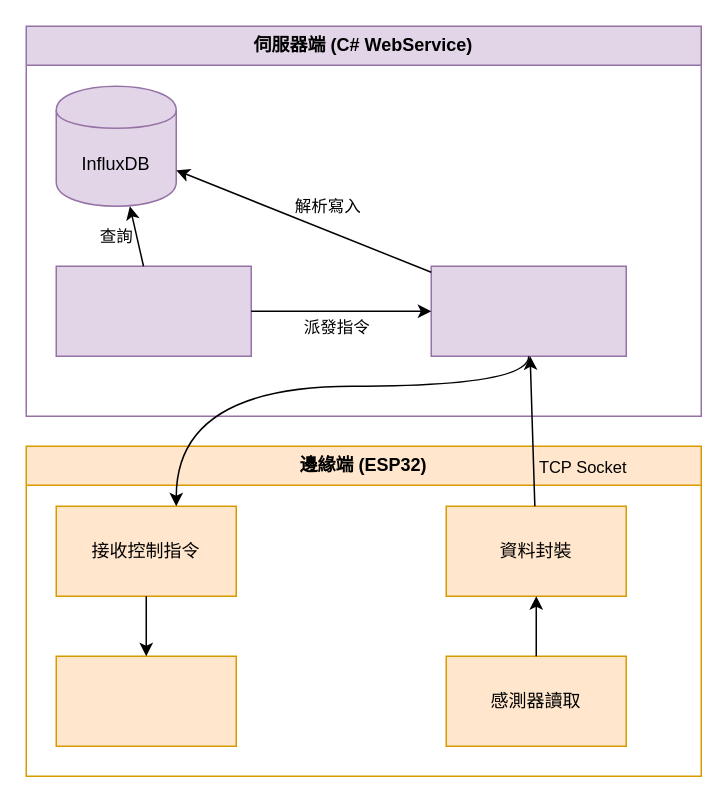
The diagram is 728 pixels wide and 803 high, and some of its shapes have lost their labels. Here are the shapes that lost their labels. From the top down, the centre of each, then its label:
At (x=153, y=310): "API Controller".
At (x=528, y=310): "TcpGatewayService".
At (x=145, y=700): "驅動繼電器".
